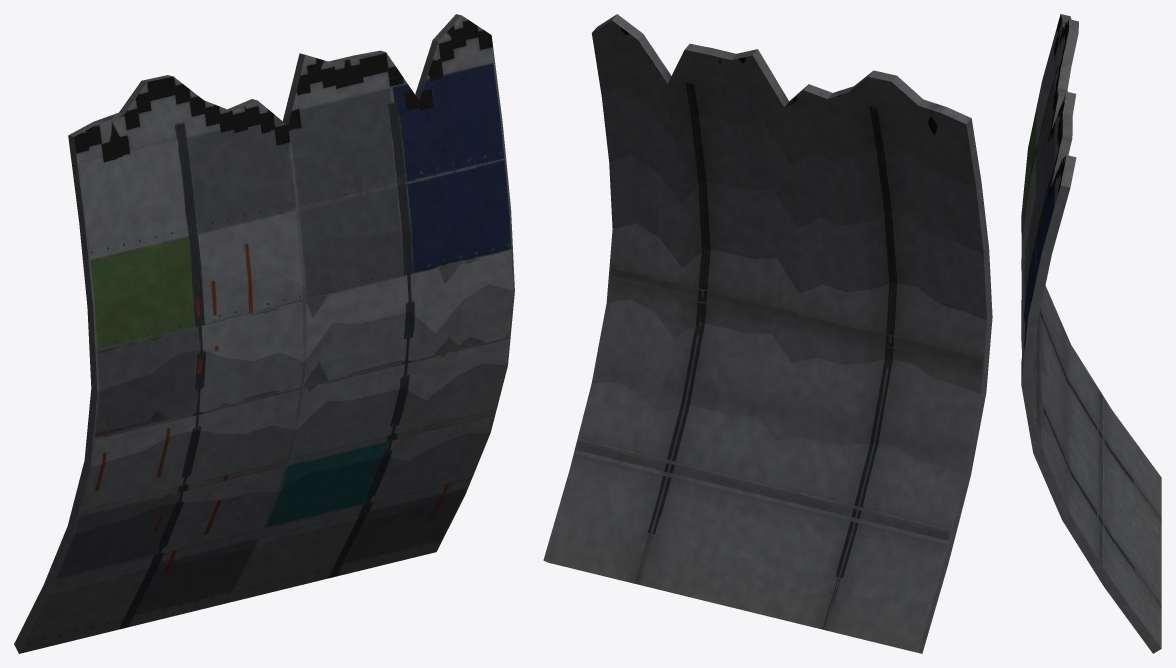
The model's file is hull_shell.glb.
3 renders of one model, left to right at view 1: azimuth 30°, elevation 25°; view 2: azimuth 150°, elevation 25°; view 3: azimuth 270°, elevation 25°, orthographic. The views are drawn at different scales.
Visible parts, largest first — view 1: hull_shell; view 2: hull_shell; view 3: hull_shell.
Part boxes in pixels (box(x1,y1,x2,y2)): hull_shell: box(14, 14, 514, 653); hull_shell: box(543, 14, 992, 653); hull_shell: box(1021, 14, 1161, 653).
Bounding box in the file's own units: 8.01 × 10.79 × 2.77.
Materials: 1 (1 with a texture image).
